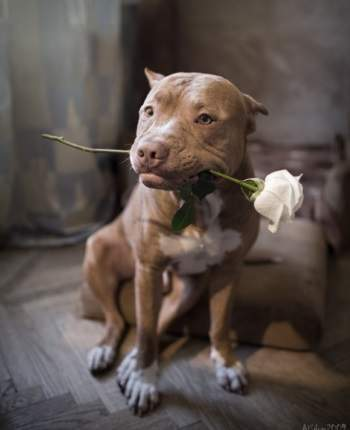Perro Pitbull: (42, 53, 321, 409)
